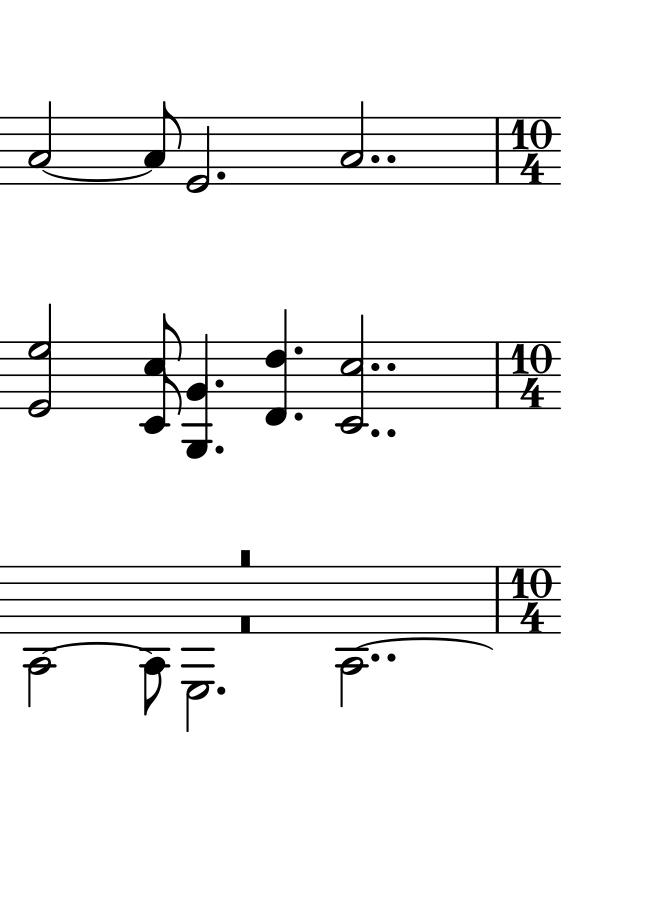0: (529, 114, 554, 153), (528, 340, 554, 375), (528, 566, 553, 600)
1: (509, 341, 528, 376), (511, 115, 528, 153), (509, 567, 528, 601)
2_-2_5: (334, 315, 369, 436)
2_-4: (24, 565, 53, 708), (338, 564, 367, 707)
2_-7: (181, 564, 217, 733)
2_0_7: (27, 302, 53, 419)
2_2: (186, 115, 212, 194)
2_3: (26, 102, 54, 184), (339, 103, 366, 183)
4: (517, 601, 546, 635), (518, 151, 546, 185), (517, 376, 545, 409)
4_-1_6: (264, 309, 289, 426)
4_-5_2: (183, 333, 213, 458)
8_-2_5: (139, 313, 183, 435)
8_-4: (140, 565, 170, 715)
8_3: (142, 101, 182, 187)
Double_dot: (367, 151, 396, 167), (369, 359, 395, 375), (370, 424, 397, 439), (370, 651, 396, 664)
Slur: (356, 636, 490, 649), (44, 640, 154, 654)
TimeSig: (512, 567, 553, 632), (512, 343, 553, 408), (512, 118, 553, 182)
dot: (211, 442, 225, 456), (213, 168, 227, 181), (214, 683, 227, 697), (292, 409, 305, 422), (213, 376, 225, 389), (294, 343, 303, 358)
